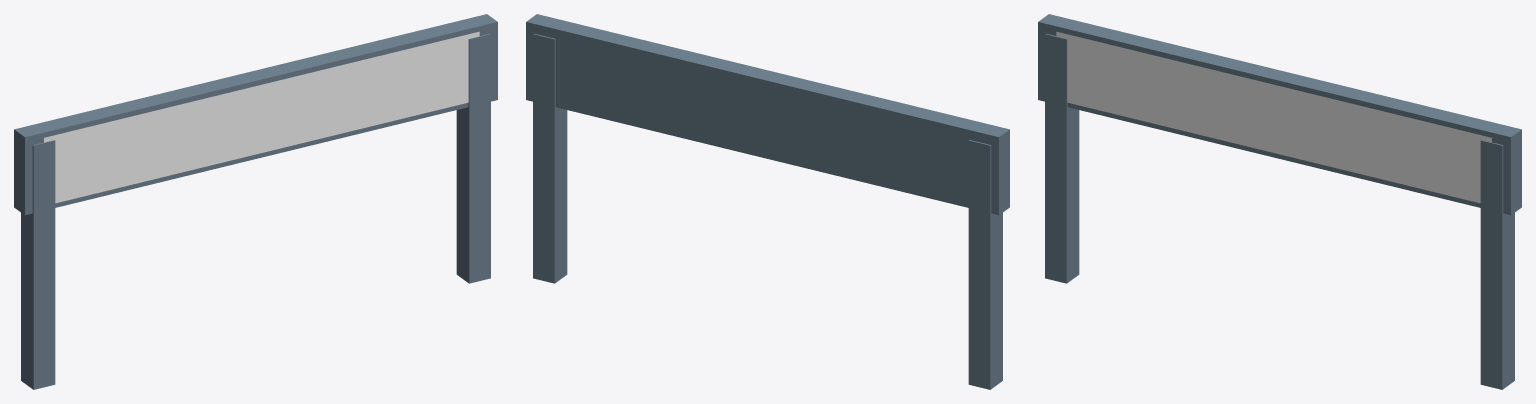
The model's file is track_sponsor.glb.
3 renders of one model, left to right at view 1: azimuth 30°, elevation 25°; view 2: azimuth 150°, elevation 25°; view 3: azimuth 330°, elevation 25°, orthographic.
Visible parts, largest first — view 1: Ad_Screen_Track_Sponsor_Gantry, Track_Sponsor_Gantry_Struct; view 2: Track_Sponsor_Gantry_Struct; view 3: Ad_Screen_Track_Sponsor_Gantry, Track_Sponsor_Gantry_Struct.
Part boxes in pixels (x1,y1,x2,y2): Ad_Screen_Track_Sponsor_Gantry: (44, 31, 479, 203); Track_Sponsor_Gantry_Struct: (14, 14, 497, 389); Track_Sponsor_Gantry_Struct: (526, 14, 1009, 389); Ad_Screen_Track_Sponsor_Gantry: (1056, 31, 1491, 203); Track_Sponsor_Gantry_Struct: (1038, 14, 1521, 389).
Size of the model in its own units: 15.2 by 7.8 by 0.7.
